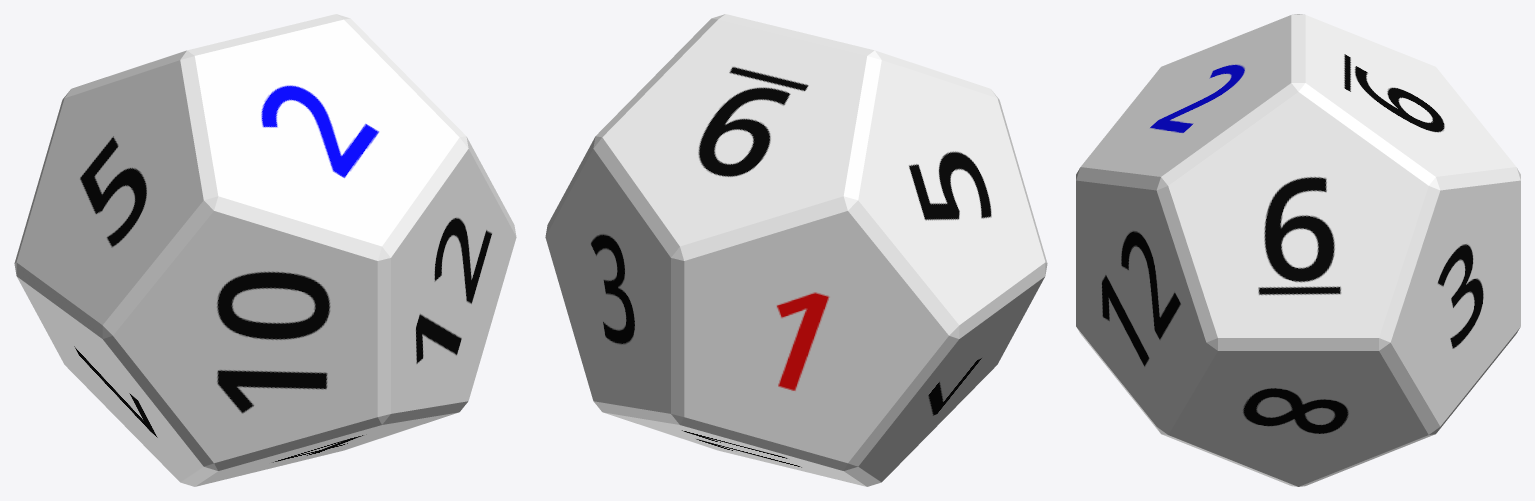
File: Dice12.glb
The picture shows the model from 3 angles, left to right: view 1: azimuth 30°, elevation 25°; view 2: azimuth 150°, elevation 25°; view 3: azimuth 270°, elevation 25°; orthographic projection. The views are drawn at different scales.
Parts seen in each view (by area): view 1: Cube; view 2: Cube; view 3: Cube.
Part boxes in pixels (bbox=[...]): Cube: bbox=[14, 14, 516, 486]; Cube: bbox=[545, 14, 1047, 486]; Cube: bbox=[1076, 14, 1520, 486].
Bounding box in the file's own units: 0.3173 × 0.3173 × 0.3173.
Materials: 1 (1 with a texture image).
